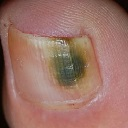Nail Fungal Infection: (43, 33, 91, 88)
